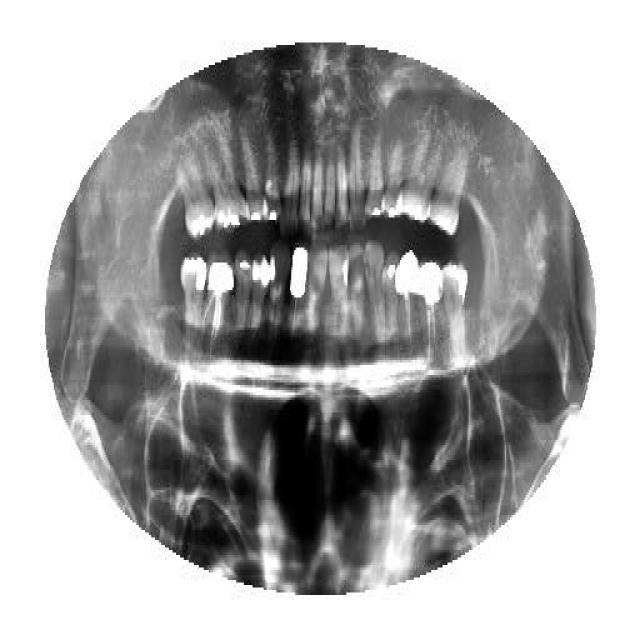Cavity: (205, 135, 249, 235), (269, 243, 291, 345), (265, 132, 283, 228)
Fillings: (205, 135, 249, 235), (180, 162, 214, 242), (442, 258, 468, 360), (244, 127, 268, 225), (180, 252, 208, 332), (381, 135, 405, 223), (269, 242, 290, 342), (329, 242, 349, 342), (250, 252, 270, 342), (234, 248, 254, 338), (365, 130, 384, 220), (264, 133, 282, 225), (384, 248, 400, 340)
Implant: (203, 252, 235, 358), (395, 248, 421, 352), (421, 260, 444, 370), (288, 242, 308, 342)
